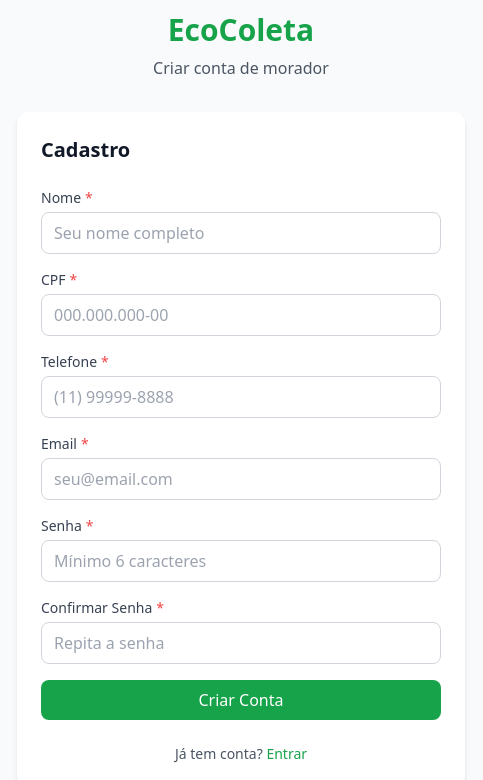
RegisterResidentPage › shows error when passwords do not match
The width and height of the screenshot is (483, 780).
Step 1. Type "John" into the field labelled "Nome*" → (241, 233), box [41, 212, 441, 254]
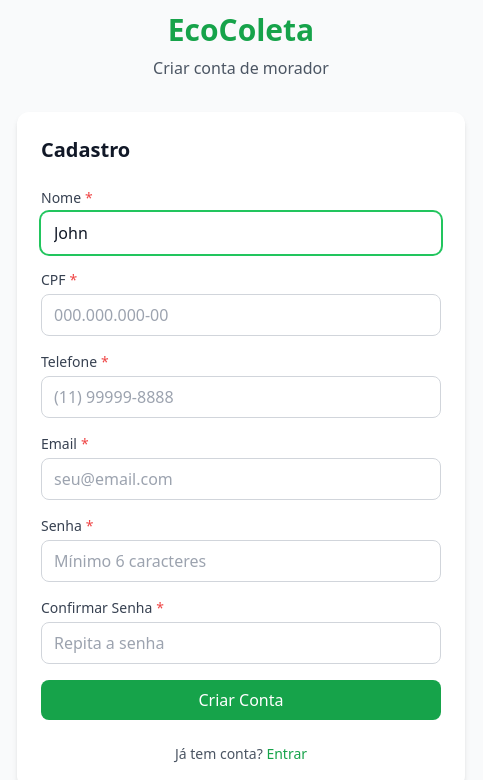
Step 2. Type "john@test.com" into the field labelled "Email*" → (241, 479), box [41, 458, 441, 500]
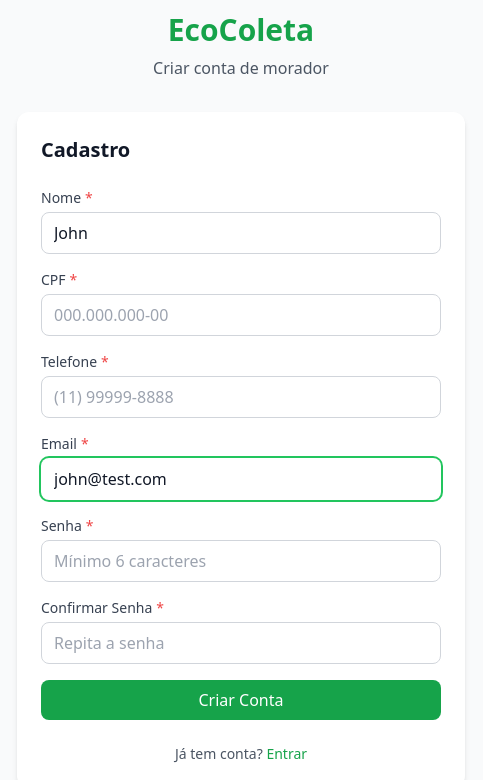
Step 3. Type "password123" into the password field labelled "Senha*" → (241, 561), box [41, 540, 441, 582]
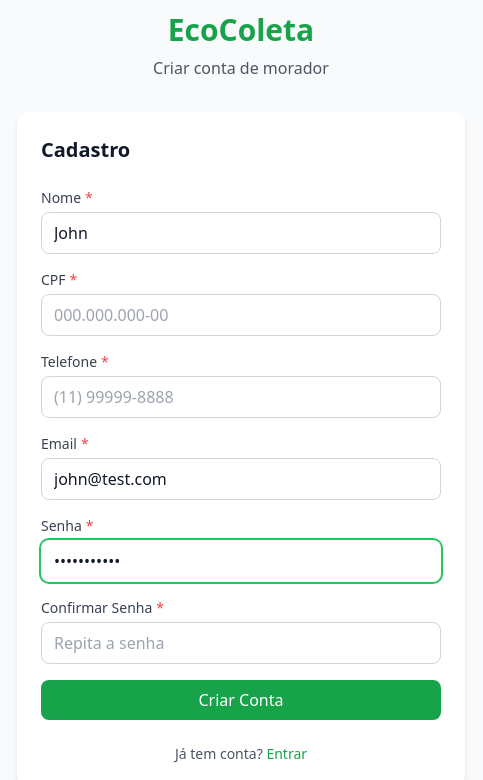
Step 4. Type "password456" into the password field labelled "Confirmar Senha*" → (241, 643), box [41, 622, 441, 664]
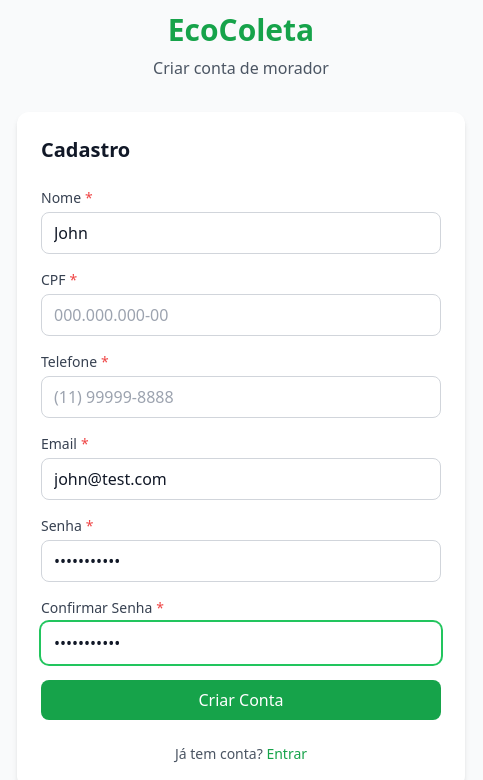
Step 5. Click the button "Criar Conta" → (241, 700), box [41, 680, 441, 720]
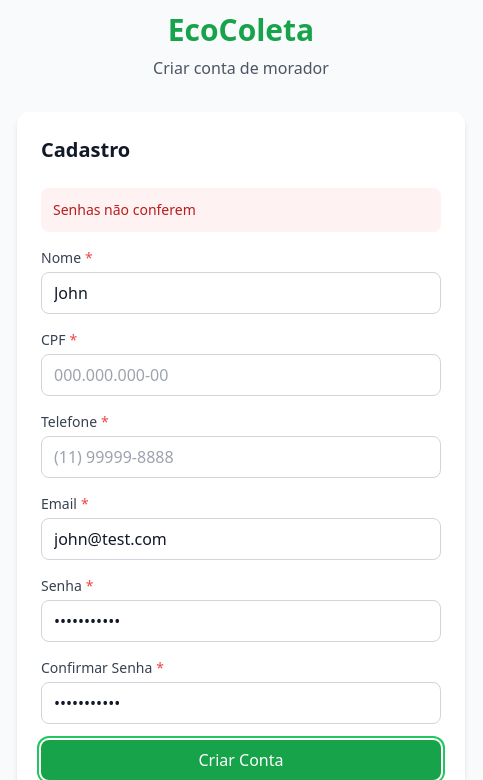
Check: the text "Senhas não conferem" is shown, box [41, 188, 441, 232]
